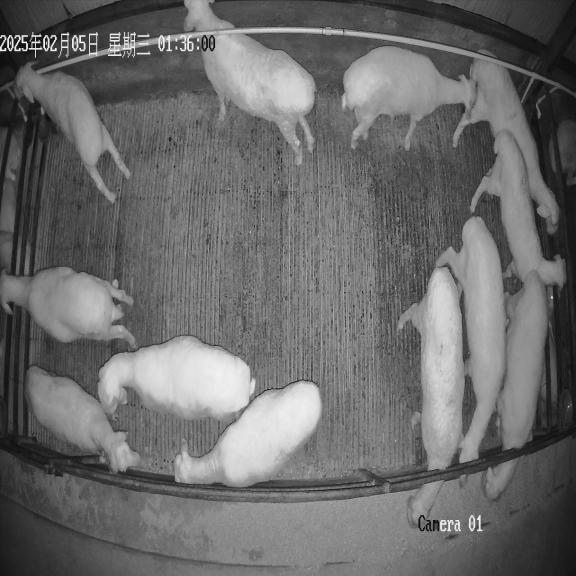eating: (397, 267, 464, 528), (482, 270, 549, 500)
stand: (184, 0, 316, 164), (453, 58, 558, 233), (436, 217, 506, 462), (13, 64, 130, 203), (174, 380, 322, 487), (470, 130, 566, 290), (342, 46, 475, 150), (98, 336, 256, 421), (25, 366, 140, 472), (0, 267, 134, 343)
